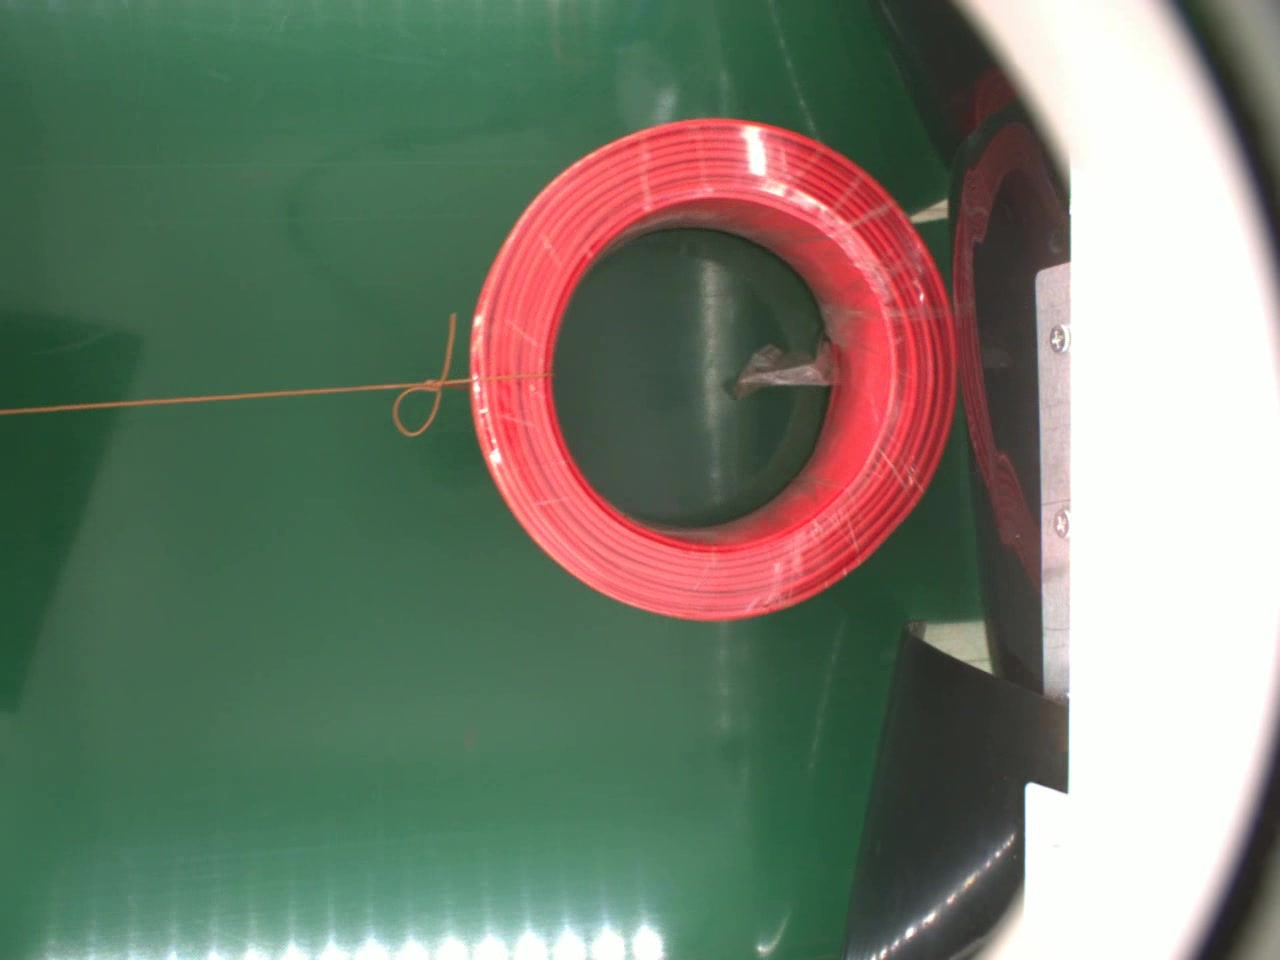red: (467, 110, 962, 630)
